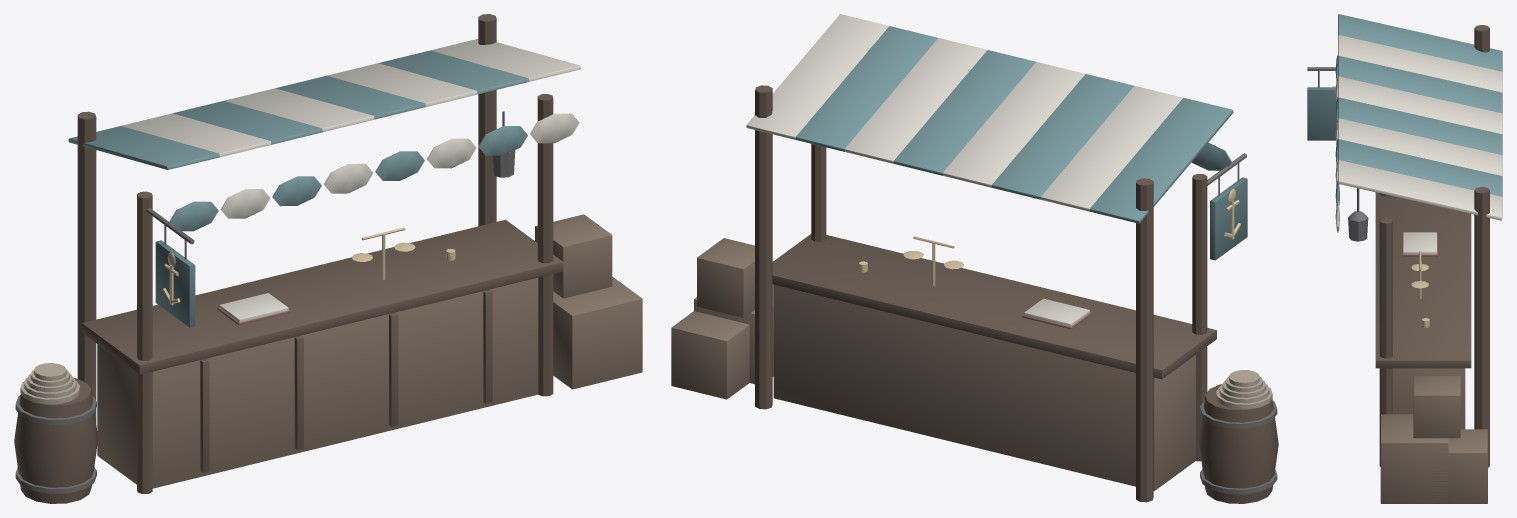
Rendered from harbour_stall.gltf.
The picture shows the model from 3 angles, left to right: view 1: azimuth 30°, elevation 25°; view 2: azimuth 150°, elevation 25°; view 3: azimuth 270°, elevation 25°; orthographic projection. The views are drawn at different scales.
Parts seen in each view (by area): view 1: Body; view 2: Body; view 3: Body.
Part boxes in pixels (x1,y1,x2,y2): Body: [14, 14, 642, 503]; Body: [671, 14, 1278, 503]; Body: [1307, 14, 1502, 503].
Bounding box in the file's own units: 5.06 × 2.82 × 1.73.
